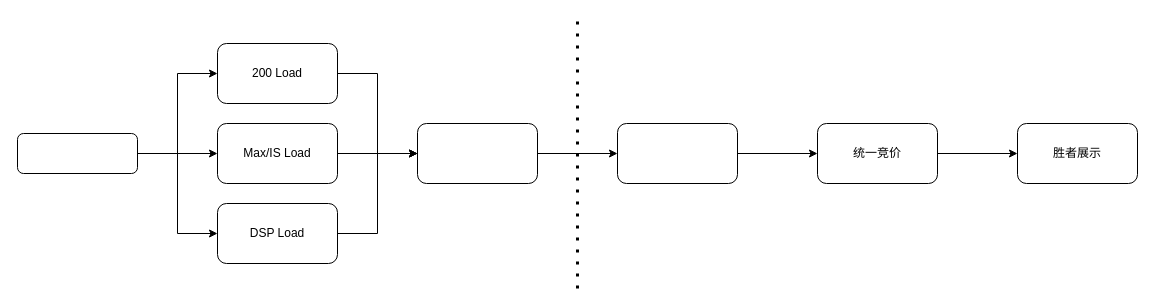
This 1155x308 diagram has some shape labels left out. The box of each missing label's shape, as (x1, y1, x2, y2) in pixels:
Load: (16, 132, 138, 174)
Show: (616, 122, 738, 184)
都加载成功: (416, 122, 538, 184)
